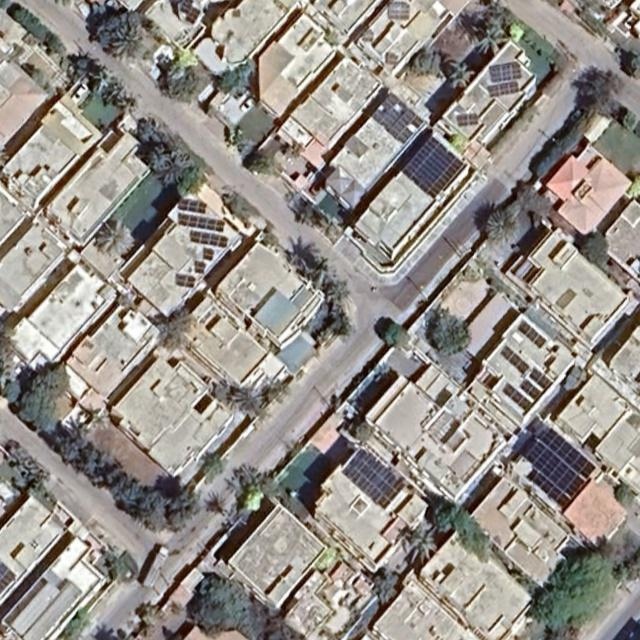solar panel: (401, 136, 464, 199), (524, 442, 585, 497), (342, 448, 398, 503), (540, 428, 597, 479), (371, 92, 424, 145), (530, 473, 570, 508), (176, 213, 226, 233), (517, 319, 548, 349), (501, 384, 533, 413), (500, 345, 529, 374), (190, 231, 230, 249), (489, 63, 523, 83), (527, 368, 553, 391), (519, 379, 542, 400), (489, 82, 520, 97), (174, 273, 198, 290), (179, 200, 208, 214), (389, 5, 409, 19), (457, 115, 478, 126), (192, 261, 206, 275), (202, 248, 214, 261)
